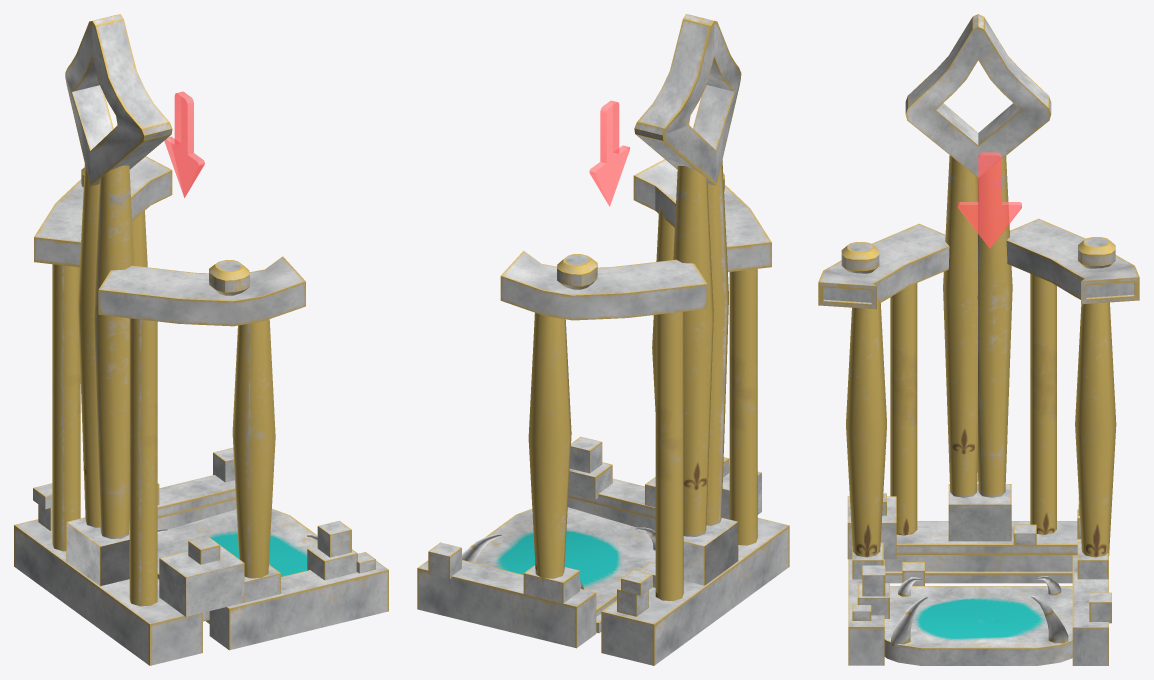
File: Trick_TheGateFinal01.fbx
3 views of the same model, side by side, from view 1: azimuth 30°, elevation 25°; view 2: azimuth 150°, elevation 25°; view 3: azimuth 270°, elevation 25° (orthographic). The views are drawn at different scales.
Visible parts, largest first — view 1: Trick_TheGateFinal01, Trick_TheGateFinal01_A; view 2: Trick_TheGateFinal01, Trick_TheGateFinal01_A; view 3: Trick_TheGateFinal01, Trick_TheGateFinal01_A.
Boxes of the visible parts, bbox=[...] form: Trick_TheGateFinal01: bbox=[14, 14, 388, 665]; Trick_TheGateFinal01_A: bbox=[164, 91, 204, 197]; Trick_TheGateFinal01: bbox=[417, 14, 789, 665]; Trick_TheGateFinal01_A: bbox=[589, 100, 630, 206]; Trick_TheGateFinal01: bbox=[818, 14, 1139, 665]; Trick_TheGateFinal01_A: bbox=[958, 152, 1021, 248].
Size of the model in its own units: 104 by 233 by 123.
2 materials, 1 textured.
